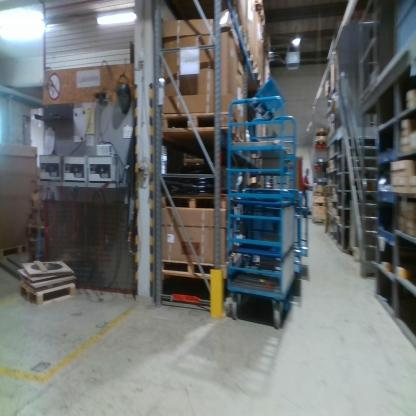pallet: (161, 257, 228, 282), (160, 111, 232, 134), (20, 280, 77, 306), (161, 193, 229, 213), (1, 242, 27, 262)
